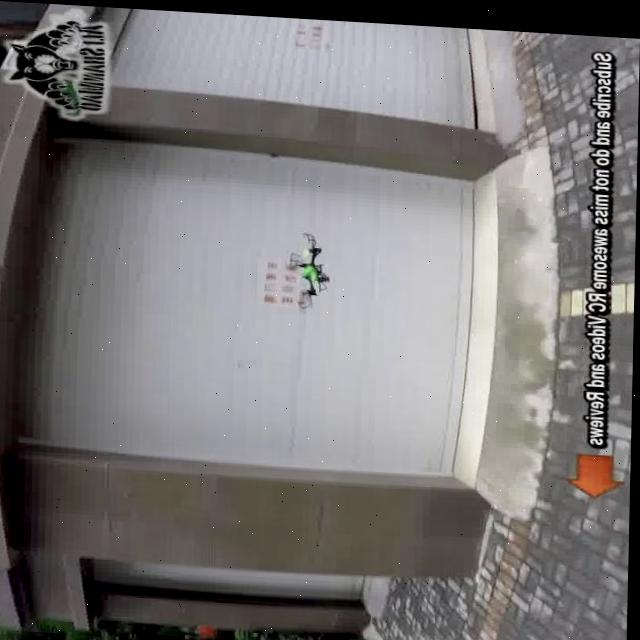drone: (283, 224, 338, 305)
